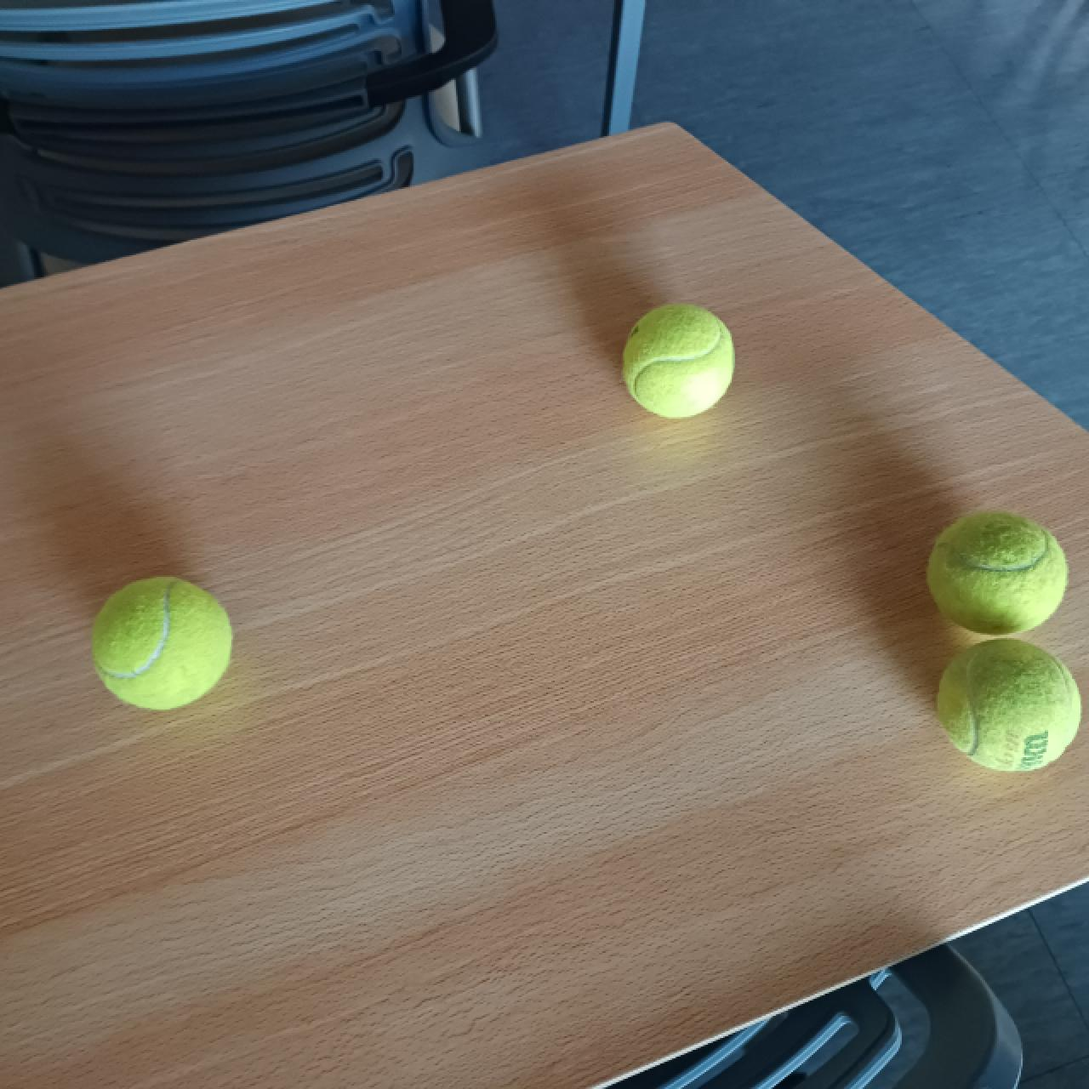tennis-ball: (933, 637, 1082, 773), (88, 574, 233, 712), (926, 510, 1067, 637), (619, 301, 735, 419)
